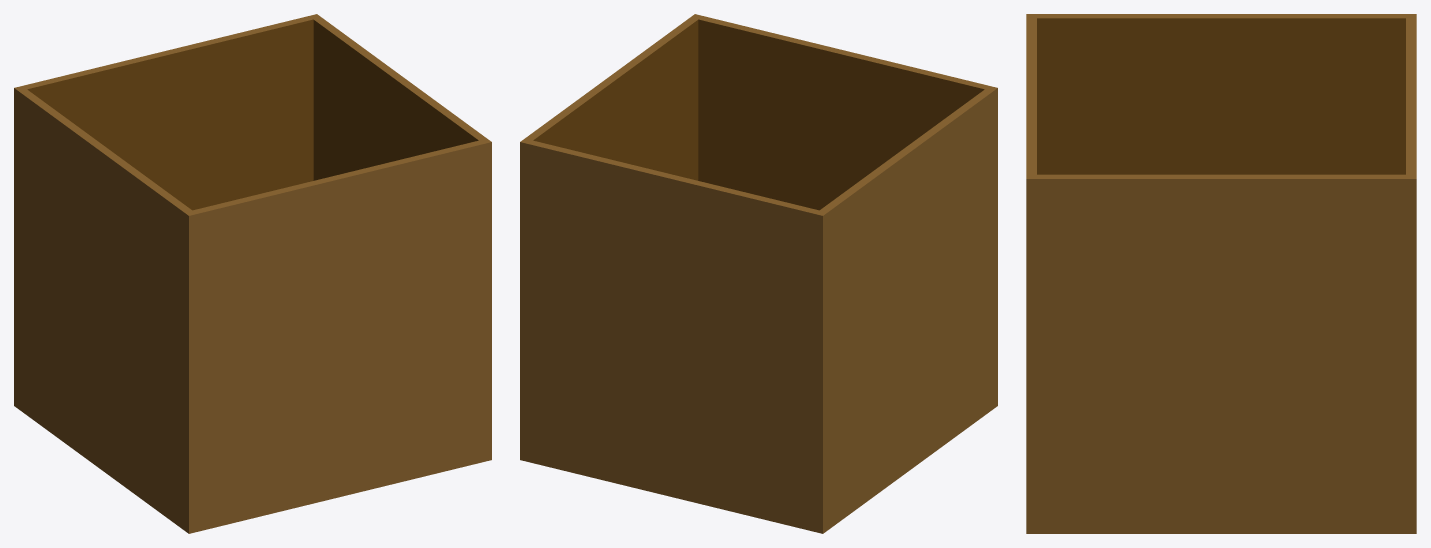
3 renders of one model, left to right at view 1: azimuth 30°, elevation 25°; view 2: azimuth 150°, elevation 25°; view 3: azimuth 270°, elevation 25°, orthographic. The views are drawn at different scales.
Visible parts, largest first — view 1: Box_Base; view 2: Box_Base; view 3: Box_Base.
Part boxes in pixels (box(x1,y1,x2,y2)): Box_Base: box(14, 14, 491, 533); Box_Base: box(520, 14, 997, 533); Box_Base: box(1026, 14, 1416, 533).
Bounding box in the file's own units: 65 × 65.2 × 65.
